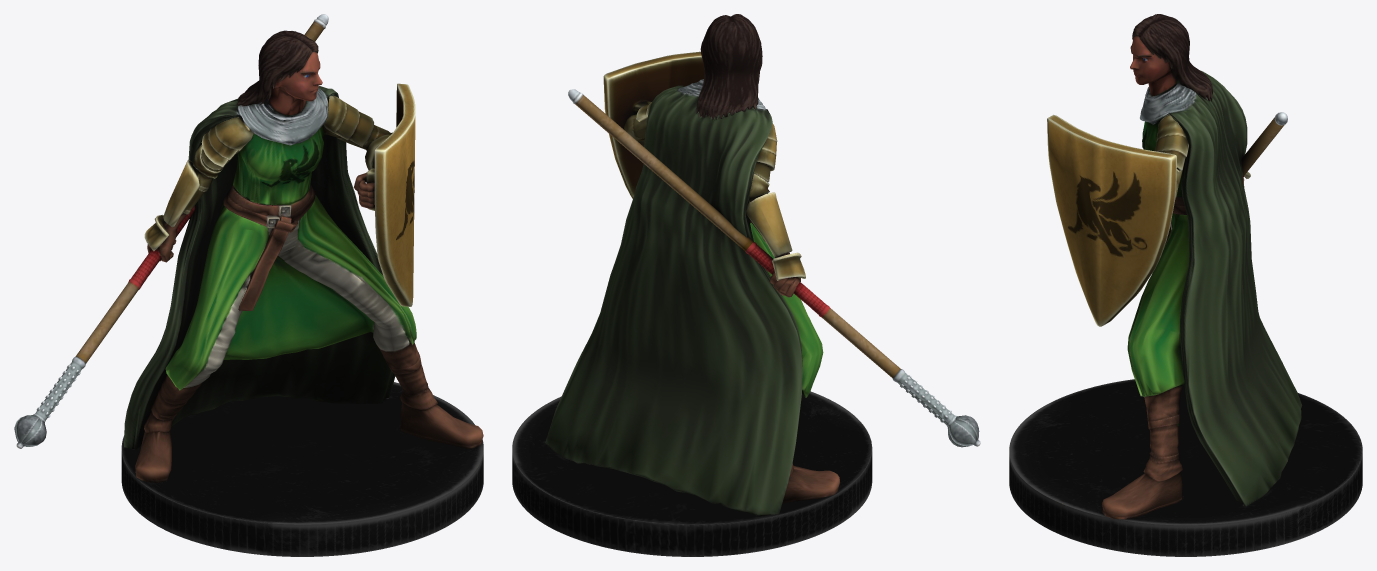
Rendered from MZ4250 - Human Cleric Female (Green).glb.
3 views of the same model, side by side, from view 1: azimuth 30°, elevation 25°; view 2: azimuth 150°, elevation 25°; view 3: azimuth 270°, elevation 25° (orthographic). The views are drawn at different scales.
Visible parts, largest first — view 1: body_low.001, base_low.001, shield_low.001, staff_low.001, hair_low.001; view 2: body_low.001, base_low.001, staff_low.001, hair_low.001, shield_low.001; view 3: body_low.001, base_low.001, shield_low.001, hair_low.001, staff_low.001.
Boxes of the visible parts, x1,y1,x2,y2 form: body_low.001: (124,51,483,482); base_low.001: (121,382,483,556); shield_low.001: (365,83,415,306); staff_low.001: (14,14,328,448); hair_low.001: (236,30,318,106); body_low.001: (545,79,840,515); base_low.001: (512,391,872,556); staff_low.001: (568,89,980,447); hair_low.001: (696,14,762,119); shield_low.001: (603,51,704,198); body_low.001: (1102,36,1302,519); base_low.001: (1009,379,1362,556); shield_low.001: (1047,114,1176,326); hair_low.001: (1132,14,1212,101); staff_low.001: (1241,112,1287,177).
Size of the model in its own units: 6.3 by 6.26 by 4.45.
1 material, 1 textured.
